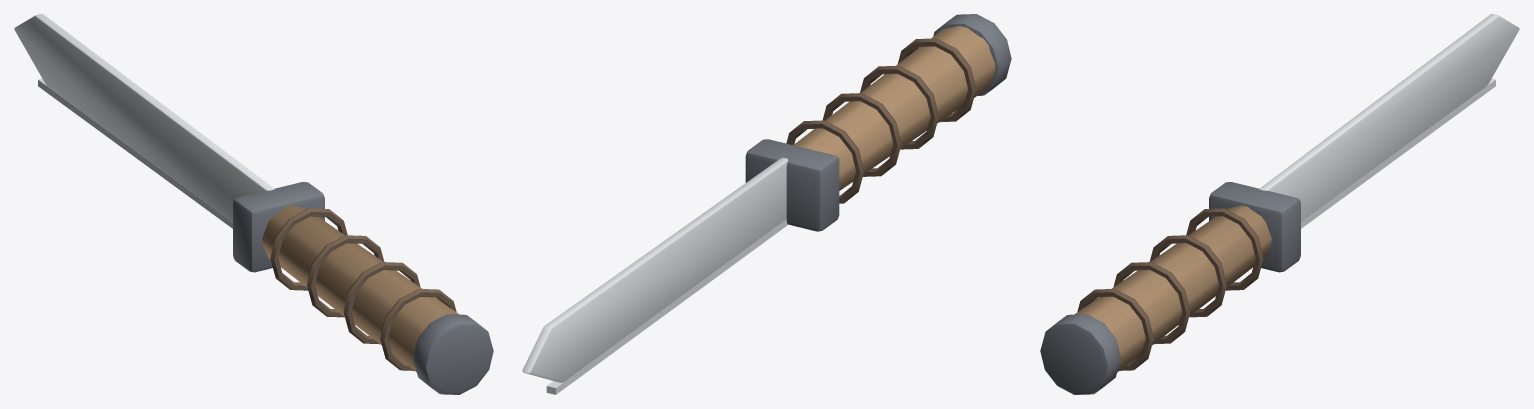
Rendered from Knife.fbx.
3 views of the same model, side by side, from view 1: azimuth 30°, elevation 25°; view 2: azimuth 150°, elevation 25°; view 3: azimuth 330°, elevation 25° (orthographic). The views are drawn at different scales.
Visible parts, largest first — view 1: Knife; view 2: Knife; view 3: Knife.
Boxes of the visible parts, x1,y1,x2,y2 form: Knife: [14, 14, 493, 394]; Knife: [522, 14, 1011, 394]; Knife: [1040, 14, 1519, 394].
Bounding box in the file's own units: 3.1 × 3.1 × 30.26.
